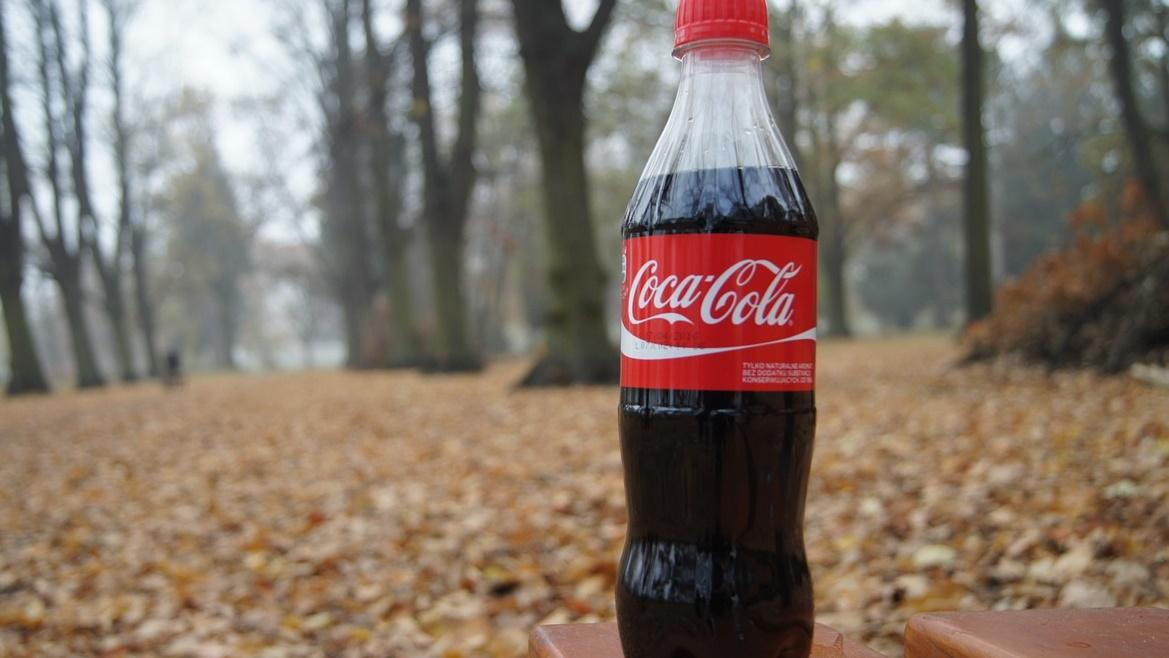bottle: (613, 0, 824, 329)
